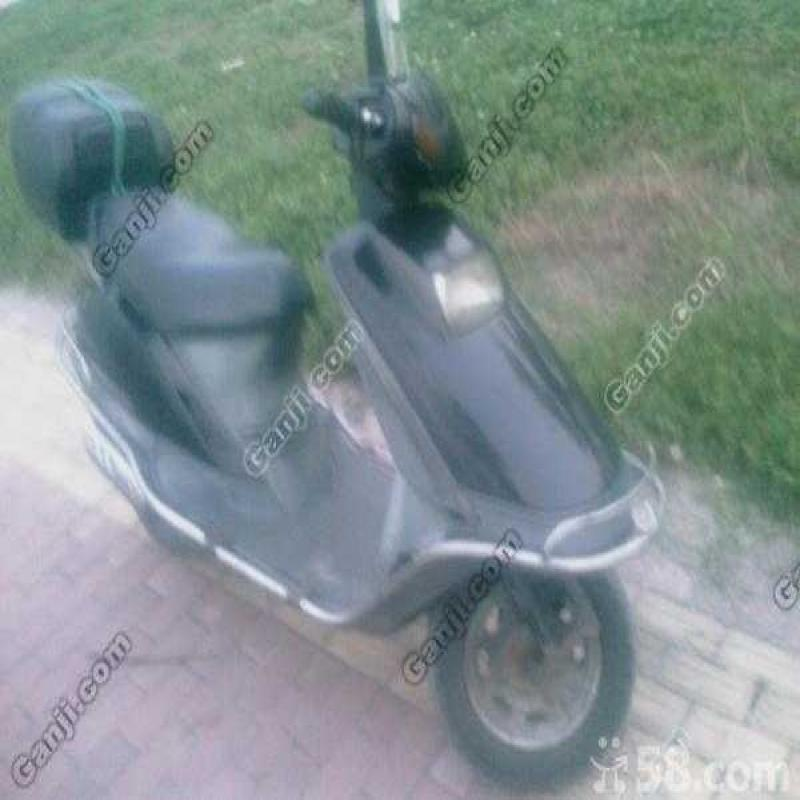bike: (32, 22, 672, 780)
